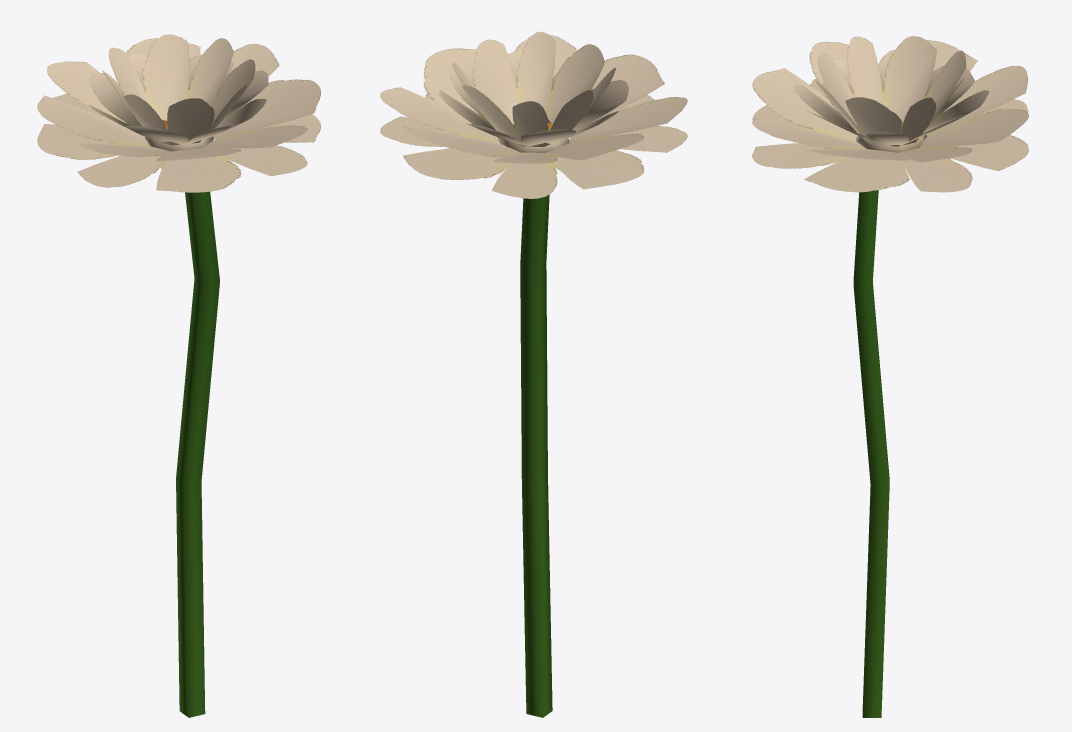
Rendered from Lily Flower.fbx.
3 renders of one model, left to right at view 1: azimuth 30°, elevation 25°; view 2: azimuth 150°, elevation 25°; view 3: azimuth 270°, elevation 25°, orthographic. The views are drawn at different scales.
Visible parts, largest first — view 1: Lily Flower; view 2: Lily Flower; view 3: Lily Flower.
Part boxes in pixels (left/top/right/bottom): Lily Flower: left=37, top=34, right=320, bottom=717; Lily Flower: left=380, top=31, right=687, bottom=717; Lily Flower: left=752, top=36, right=1028, bottom=717.
Size of the model in its own units: 0.2569 by 0.5603 by 0.2569.
